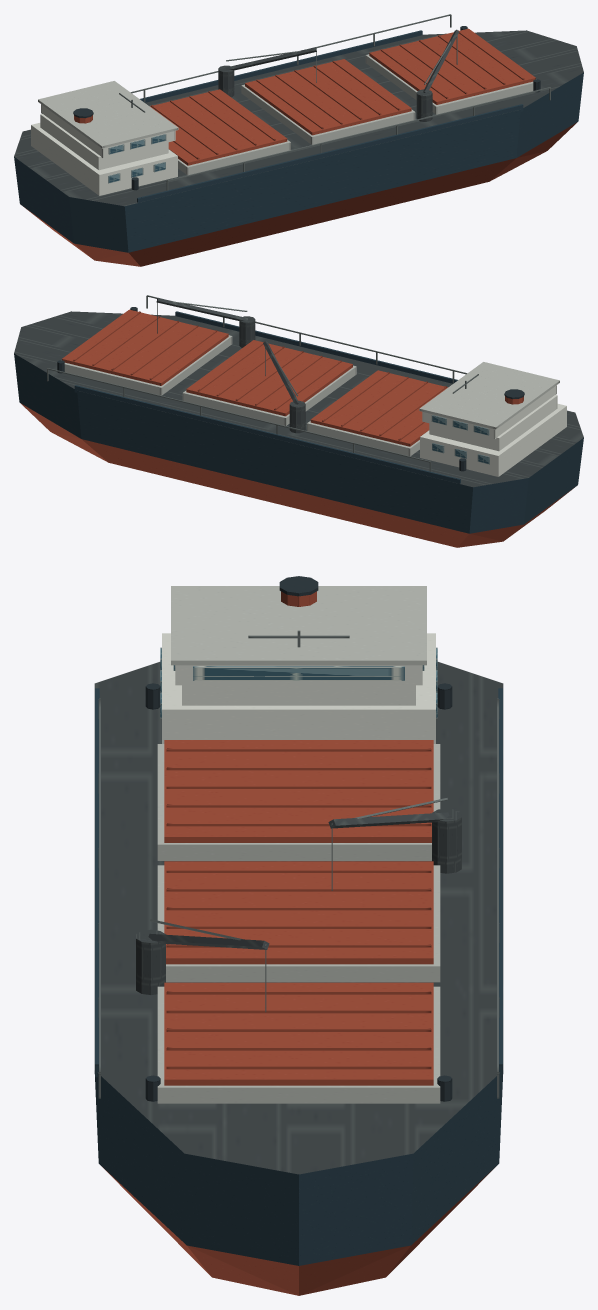
File: SM_QD_HarborShip_L1.fbx
The picture shows the model from 3 angles, top to bottom: view 1: azimuth 30°, elevation 25°; view 2: azimuth 150°, elevation 25°; view 3: azimuth 270°, elevation 25°; orthographic projection. The views are drawn at different scales.
Parts seen in each view (by area): view 1: SM_QD_HarborShip_L1; view 2: SM_QD_HarborShip_L1; view 3: SM_QD_HarborShip_L1.
Part boxes in pixels (left/top/right/bottom): SM_QD_HarborShip_L1: left=14, top=14, right=583, bottom=266; SM_QD_HarborShip_L1: left=14, top=295, right=583, bottom=547; SM_QD_HarborShip_L1: left=94, top=576, right=503, bottom=1295.
Bounding box in the file's own units: 27.97 × 9.25 × 6.55.
Materials: 1 (1 with a texture image).
